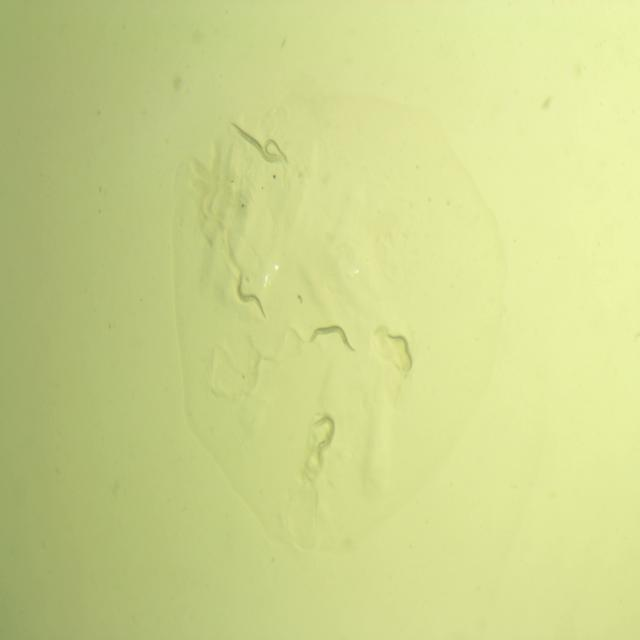worm: (227, 116, 282, 165), (302, 318, 360, 356), (233, 266, 270, 324), (307, 405, 339, 466), (382, 328, 419, 377), (261, 132, 292, 170)
